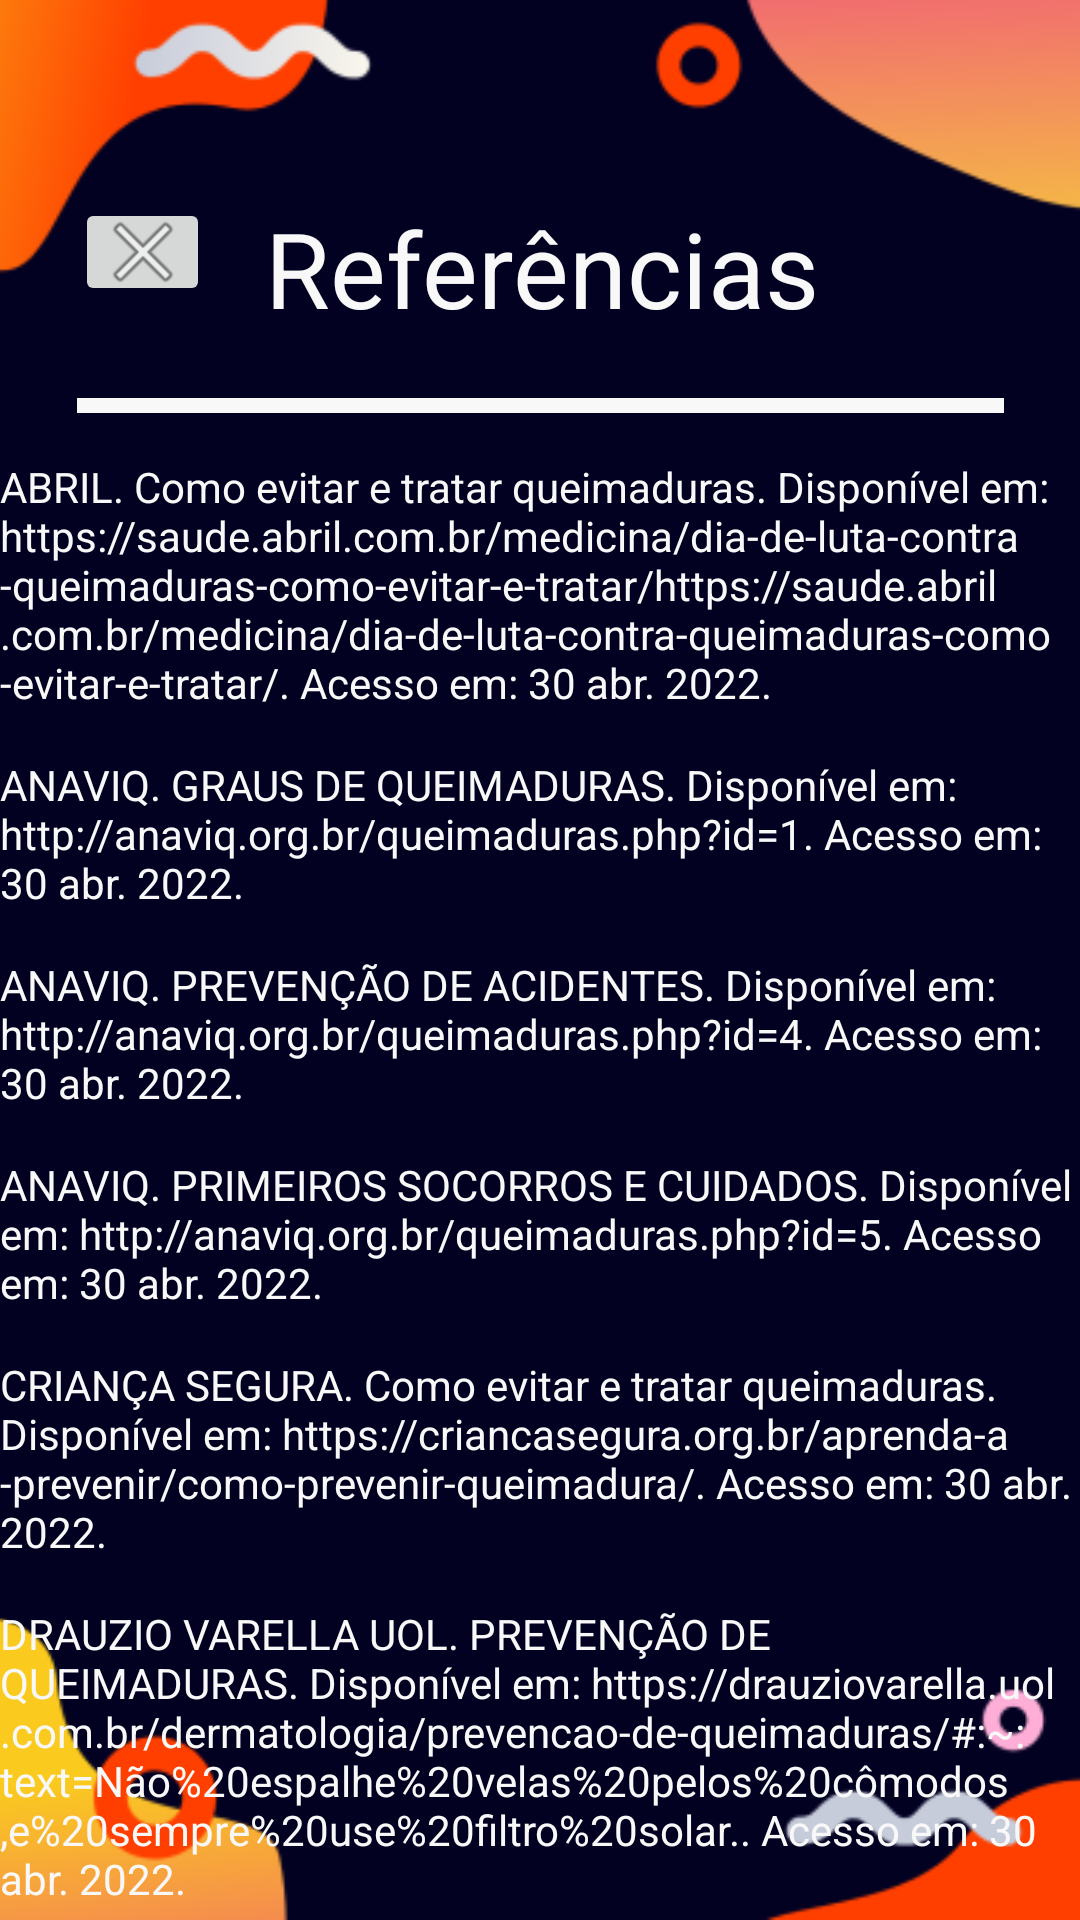

Where to tap for icons on this 1080x1920 app screen, as (x,y):
close clear cancel: (142,252)
